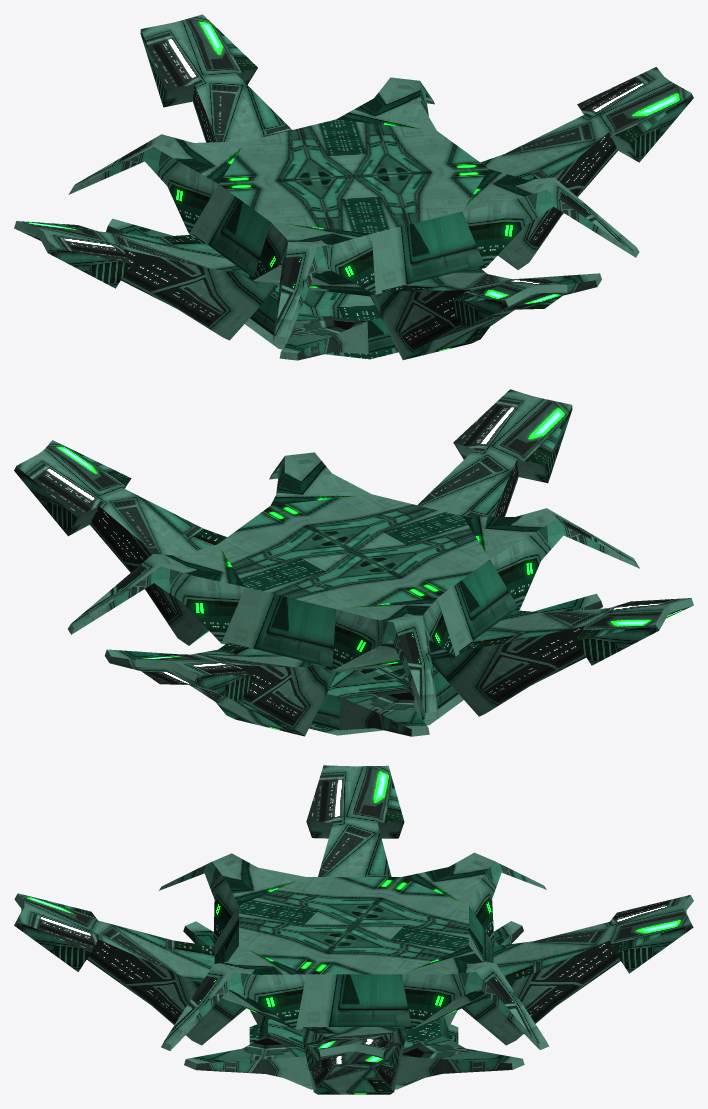
The model's file is Rom_Large_Turret.fbx.
3 views of the same model, one above another, from view 1: azimuth 30°, elevation 25°; view 2: azimuth 150°, elevation 25°; view 3: azimuth 270°, elevation 25° (orthographic). The views are drawn at different scales.
Visible parts, largest first — view 1: Rom_Large_Turret; view 2: Rom_Large_Turret; view 3: Rom_Large_Turret.
Part boxes in pixels (x1,y1,x2,y2): Rom_Large_Turret: (14, 14, 693, 360); Rom_Large_Turret: (14, 389, 693, 736); Rom_Large_Turret: (14, 765, 693, 1094).
Bounding box in the file's own units: 379 × 93.64 × 379.
Materials: 1 (1 with a texture image).
